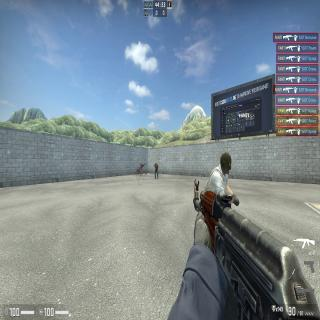CT-Head: (220, 152, 232, 172)
T-Body: (155, 162, 158, 179)
T-Head: (155, 162, 157, 165)
